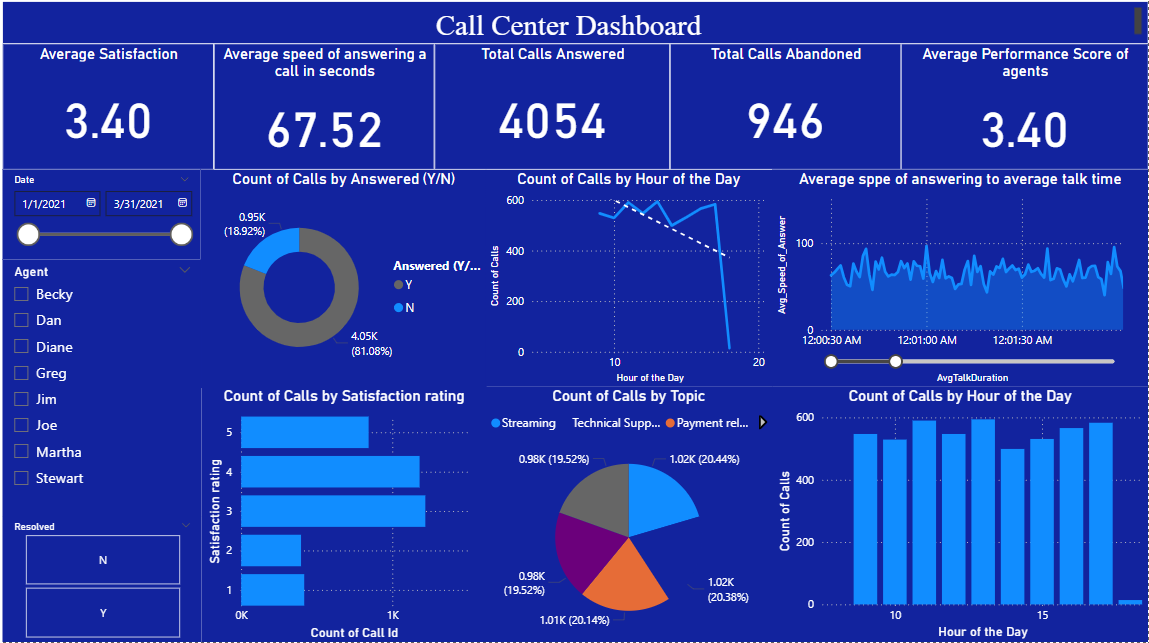

The dashboard page shown, as its layout file describes it:
{"tool":"powerbi","page":{"name":"Page 1","canvas":[1280,720],"ordinal":0},"visuals":[{"type":"card","title":"Average Satisfaction","fields":{"Values":["Sheet1.Avg_Satisfaction"]},"box":[14.9,58,233.6,139.1],"z":0},{"type":"donutChart","fields":{"Category":["Sheet1.Answered (Y/N)"],"Y":["Sheet1.Call Id"]},"box":[232.9,196.5,315.9,241],"z":1000},{"type":"lineChart","fields":{"Category":["Sheet1.Hour of the Day"],"Y":["Sheet1.Call Id"]},"box":[548.3,197.1,316.4,240.2],"z":2000},{"type":"card","title":"Average speed of answering a call in seconds","fields":{"Values":["Sheet1.Avg_Speed_of_Answer"]},"box":[248.5,58,243.5,139.1],"z":3000},{"type":"card","title":"Total Calls Answered","fields":{"Values":["Sheet1.Total_calls_Answered"]},"box":[492,58,260.1,139.1],"z":4000},{"type":"card","title":"Total Calls Abandoned","fields":{"Values":["Sheet1.Calls_Abandoned"]},"box":[752,58,255.1,139.1],"z":5000},{"type":"card","title":"Average Performance Score of agents","fields":{"Values":["Sheet1.Agent Performance Score"]},"box":[1007.1,58,273.3,139.1],"z":6000},{"type":"areaChart","title":"Average sppe of answering to average talk time","fields":{"Category":["Sheet1.AvgTalkDuration"],"Y":["Sheet1.Avg_Speed_of_Answer"]},"box":[864.7,197.1,415.8,240.2],"z":7000},{"type":"clusteredColumnChart","fields":{"Category":["Sheet1.Hour of the Day"],"Y":["Sheet1.Call Id"]},"box":[864.7,437.3,415.8,283.3],"z":8000},{"type":"pieChart","fields":{"Category":["Sheet1.Topic"],"Y":["Sheet1.Call Id"]},"box":[548.3,437.3,316.4,283.3],"z":9000},{"type":"slicer","fields":{"Values":["Sheet1.Date"]},"box":[14.9,197.1,218.7,99.4],"z":10000},{"type":"slicer","fields":{"Values":["Sheet1.Agent"]},"box":[14.9,296.5,220.3,283.3],"z":11000},{"type":"slicer","fields":{"Values":["Sheet1.Resolved"]},"box":[14.9,579.8,220.3,140.8],"z":12000},{"type":"textbox","box":[14.9,11.6,1265.6,46.4],"z":13000},{"type":"barChart","title":"Count of Calls by Satisfaction rating","fields":{"Category":["Sheet1.Satisfaction rating"],"Y":["Sheet1.Call Id"]},"box":[234.9,437.5,313.9,283.5],"z":14000}]}

Visuals, with their boxes in screenshot pixels (x1, y1, x2, y2), scaled from the page's 1280x720 canvas onto the 1149x643 screenshot:
"Average Satisfaction" card: box(13, 52, 223, 176)
donutChart - Sheet1.Answered (Y/N) x Sheet1.Call Id: box(209, 175, 493, 391)
lineChart - Sheet1.Hour of the Day x Sheet1.Call Id: box(492, 176, 776, 391)
"Average speed of answering a call in seconds" card: box(223, 52, 442, 176)
"Total Calls Answered" card: box(442, 52, 675, 176)
"Total Calls Abandoned" card: box(675, 52, 904, 176)
"Average Performance Score of agents" card: box(904, 52, 1148, 176)
"Average sppe of answering to average talk time" areaChart: box(776, 176, 1148, 391)
clusteredColumnChart - Sheet1.Hour of the Day x Sheet1.Call Id: box(776, 391, 1148, 642)
pieChart - Sheet1.Topic x Sheet1.Call Id: box(492, 391, 776, 642)
slicer - Sheet1.Date: box(13, 176, 210, 265)
slicer - Sheet1.Agent: box(13, 265, 211, 518)
slicer - Sheet1.Resolved: box(13, 518, 211, 642)
textbox: box(13, 10, 1148, 52)
"Count of Calls by Satisfaction rating" barChart: box(211, 391, 493, 642)
